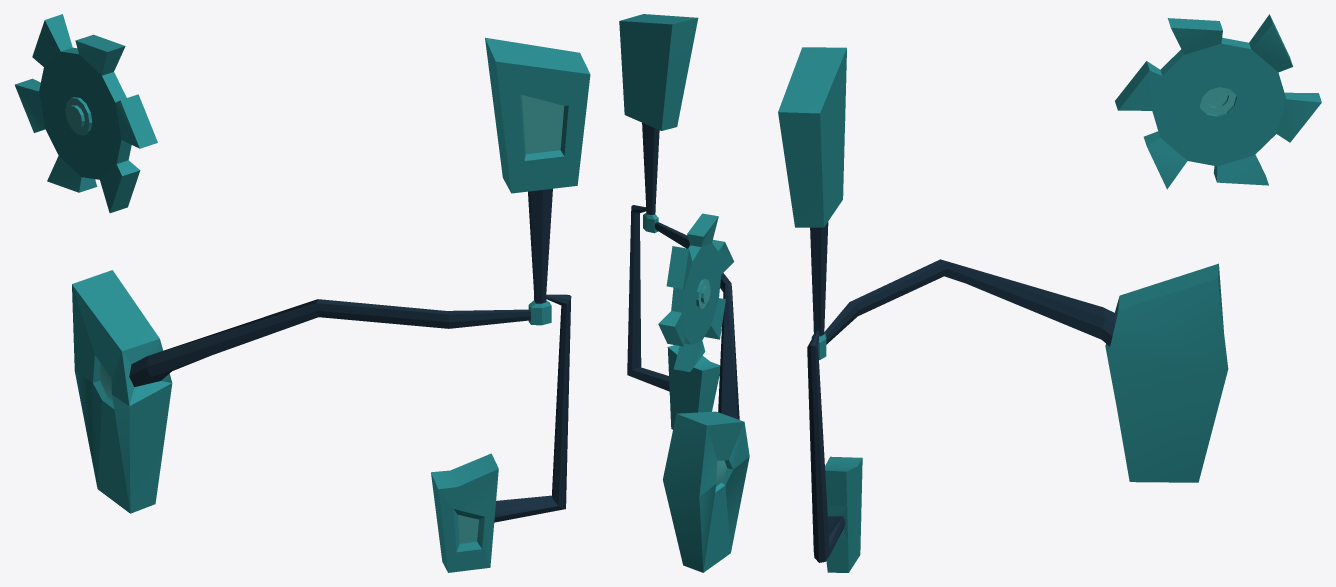
File: room-4-floor-2.FBX
3 renders of one model, left to right at view 1: azimuth 30°, elevation 25°; view 2: azimuth 150°, elevation 25°; view 3: azimuth 270°, elevation 25°, orthographic. The views are drawn at different scales.
Visible parts, largest first — view 1: Object042; view 2: Object042; view 3: Object042.
Boxes of the visible parts, x1,y1,x2,y2 form: Object042: (15,14,590,572); Object042: (619,14,749,572); Object042: (778,14,1321,572).
Bounding box in the file's own units: 6.13 × 9.68 × 8.98.
